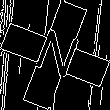N_S: (27, 24, 83, 86)
